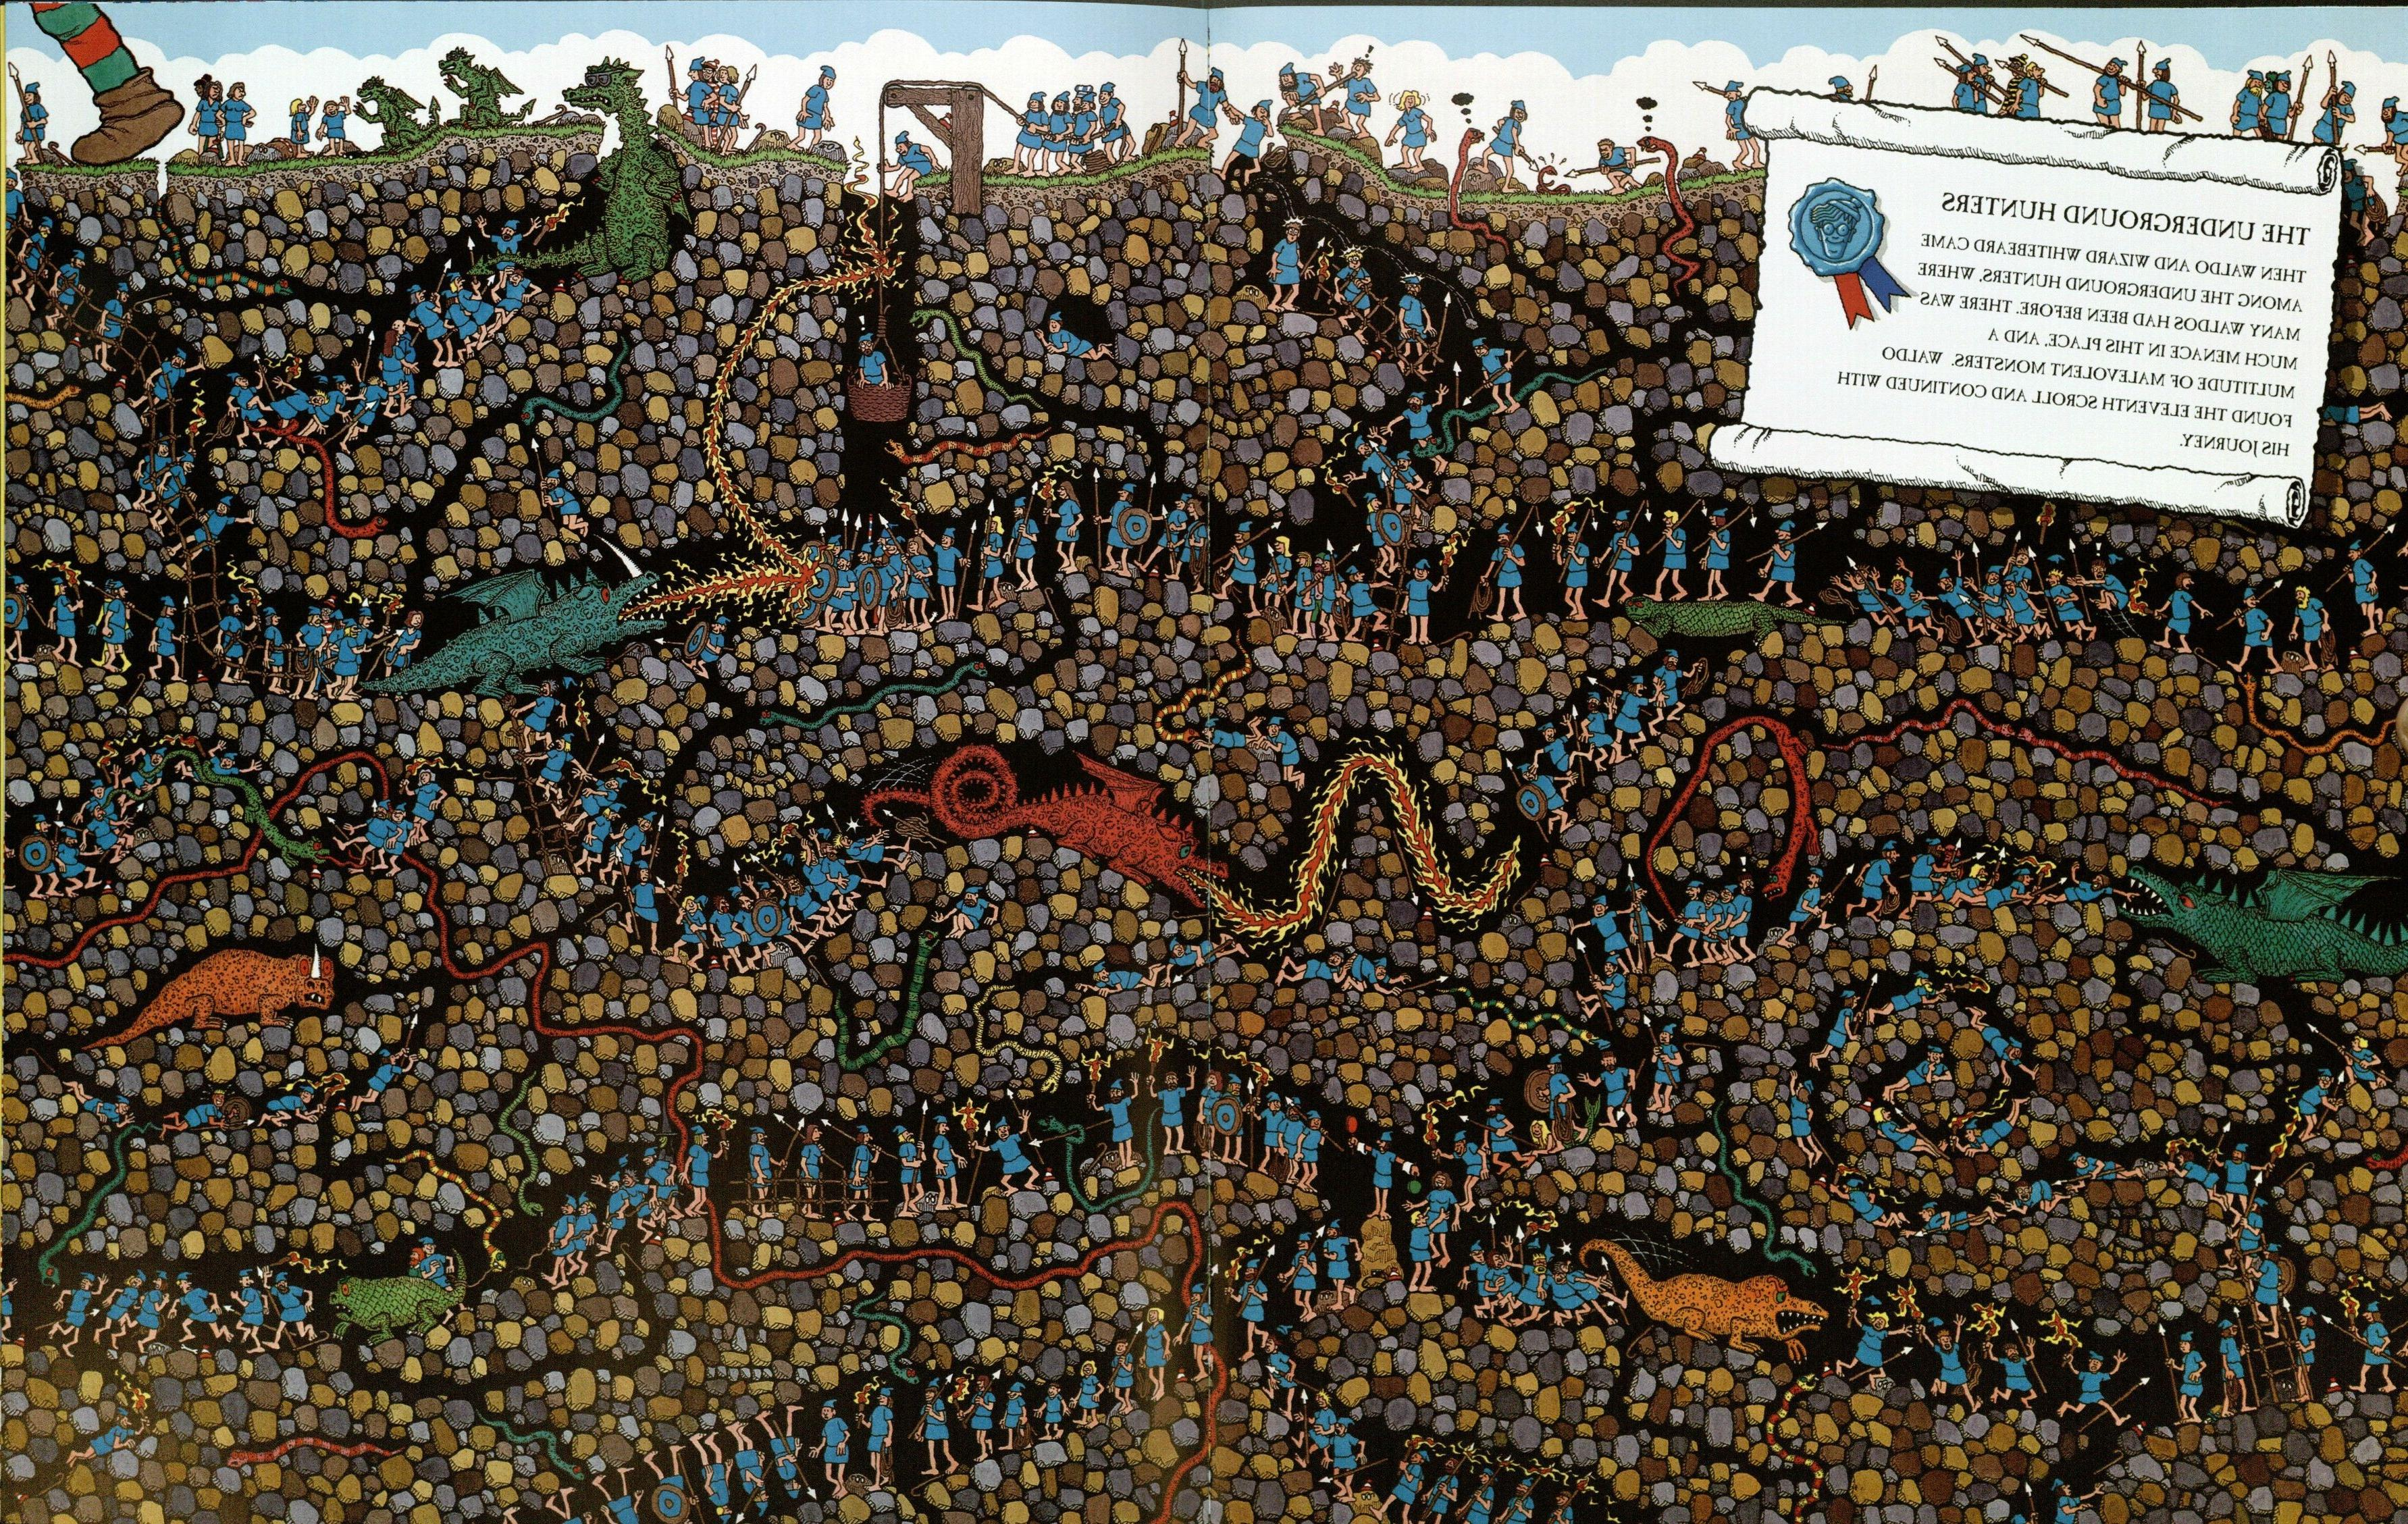waldos: (311, 592, 340, 694)
